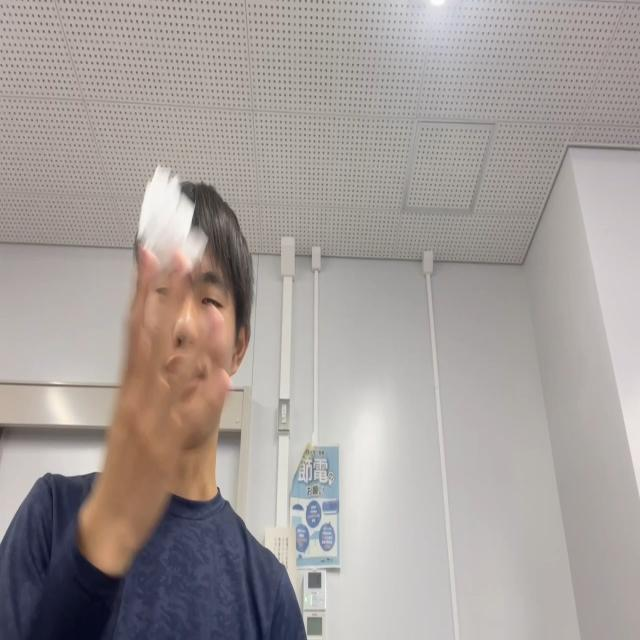paper: (135, 164, 209, 274)
